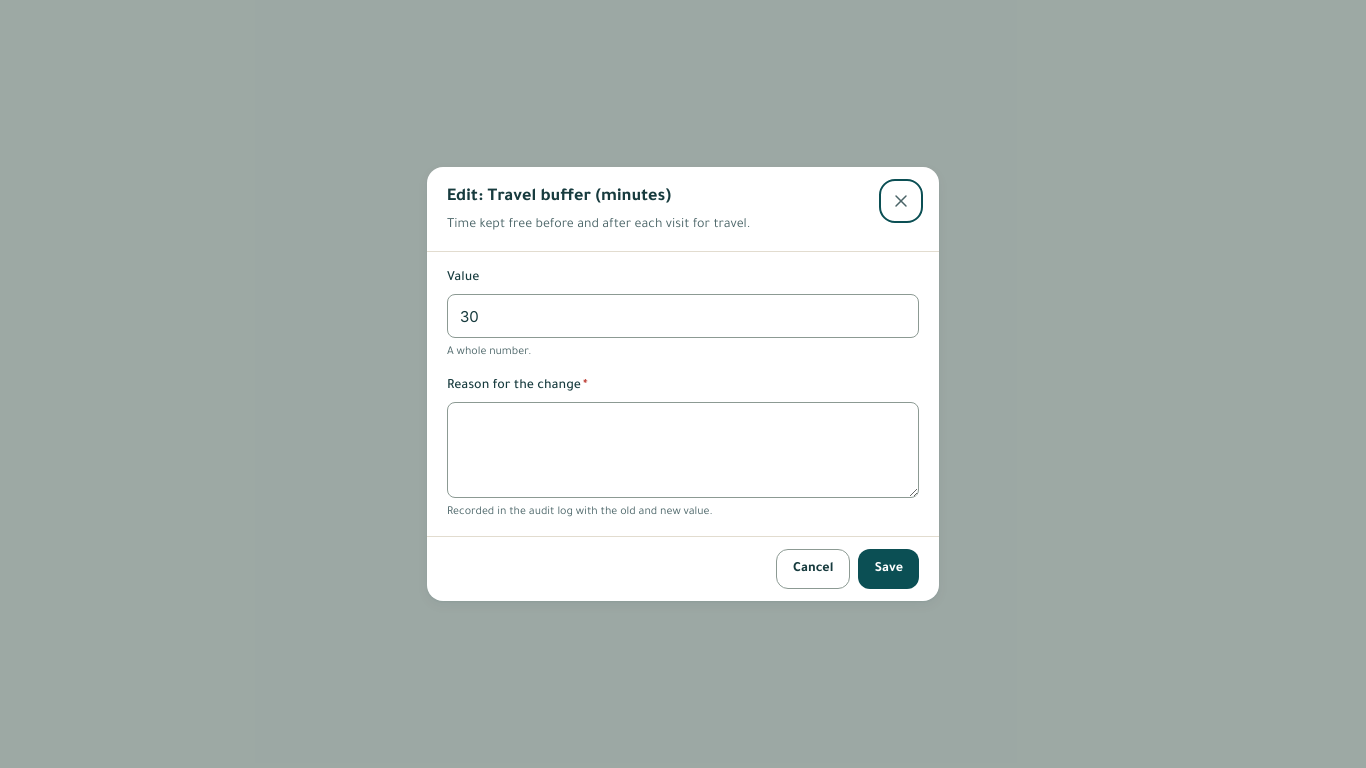
Scenario: weekly hours editor (booking.working_hours) › shows the API's capacity shortfall without a force path
This screenshot has width=1366, height=768.
Replace the text in the field labelled "Value" with "60" at (683, 316), box [447,294,919,338]
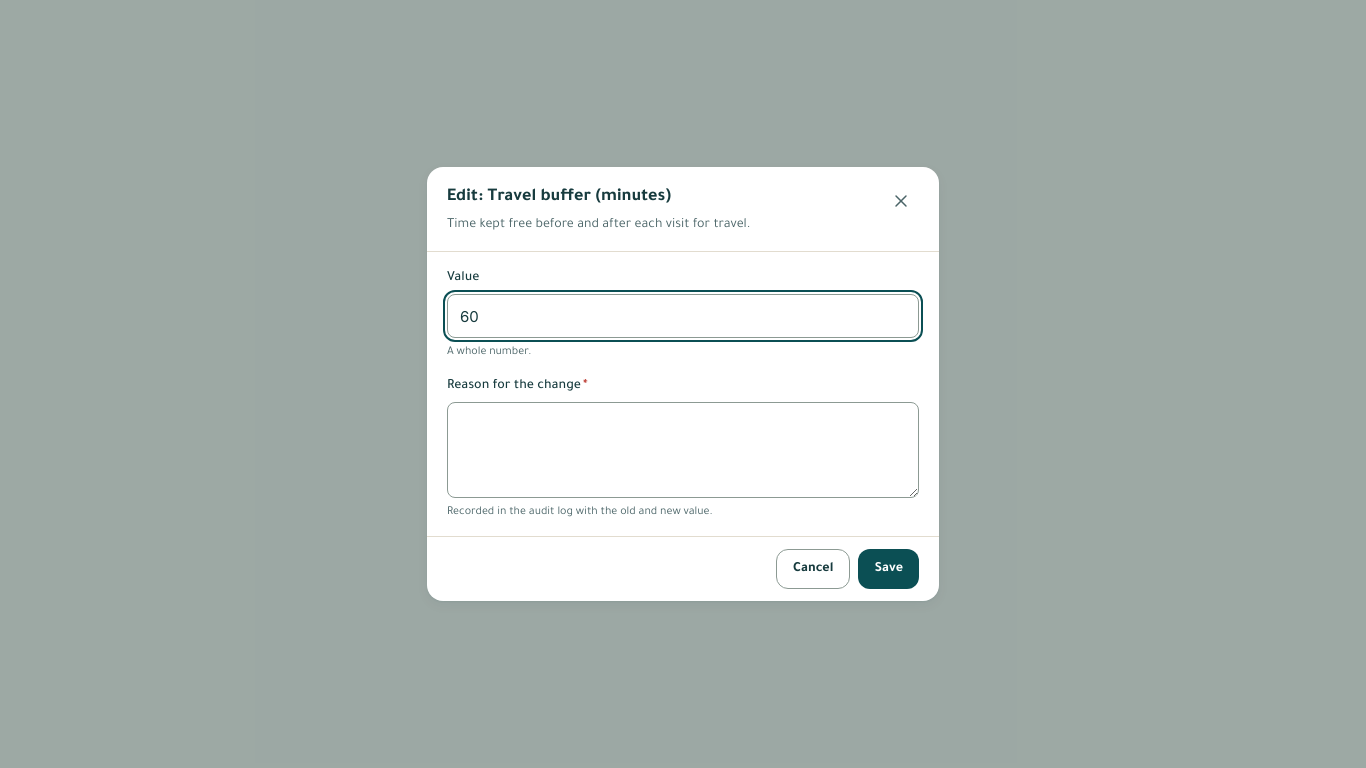
Type "Longer trips" into the text box labelled "Reason for the change*".
click(683, 450); type("Longer trips")  # box [447,402,919,498]
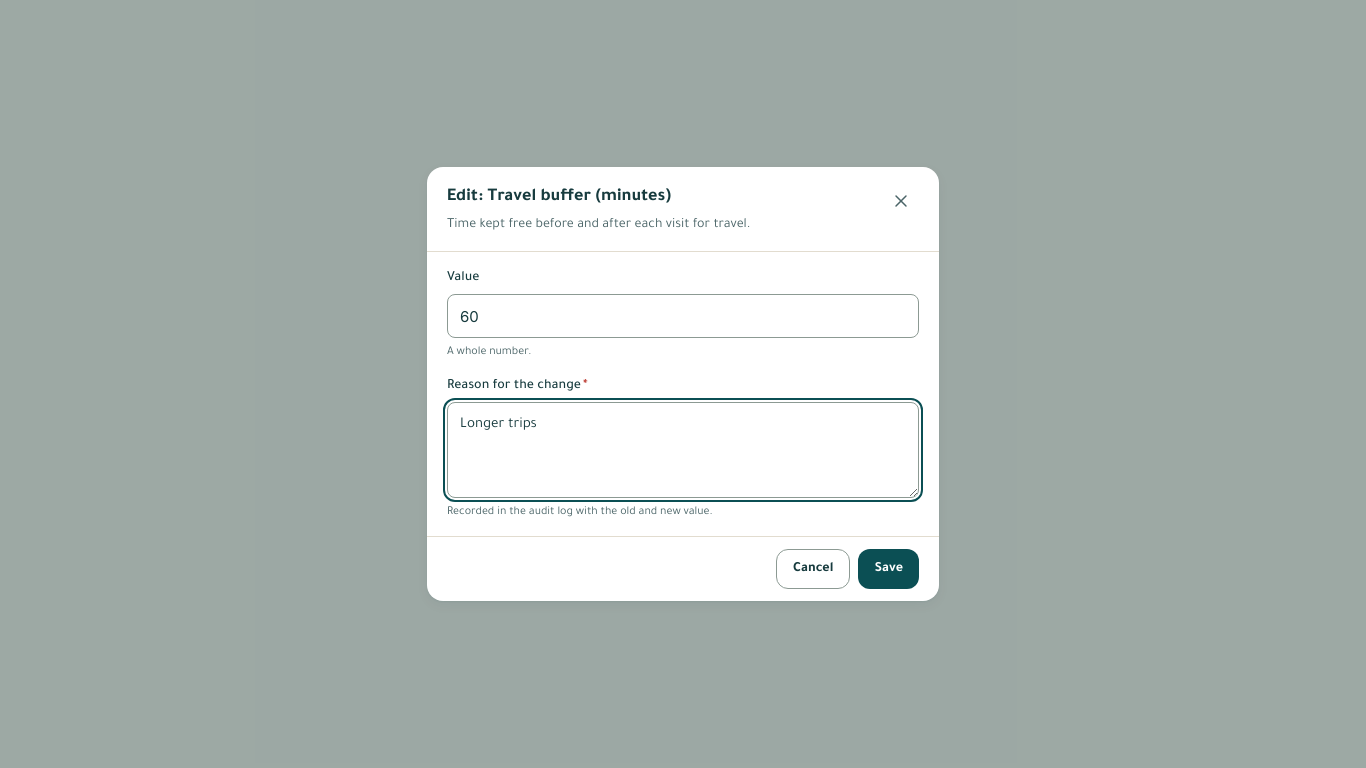
Click the button "Save".
click(889, 569)  # box [858,549,919,589]
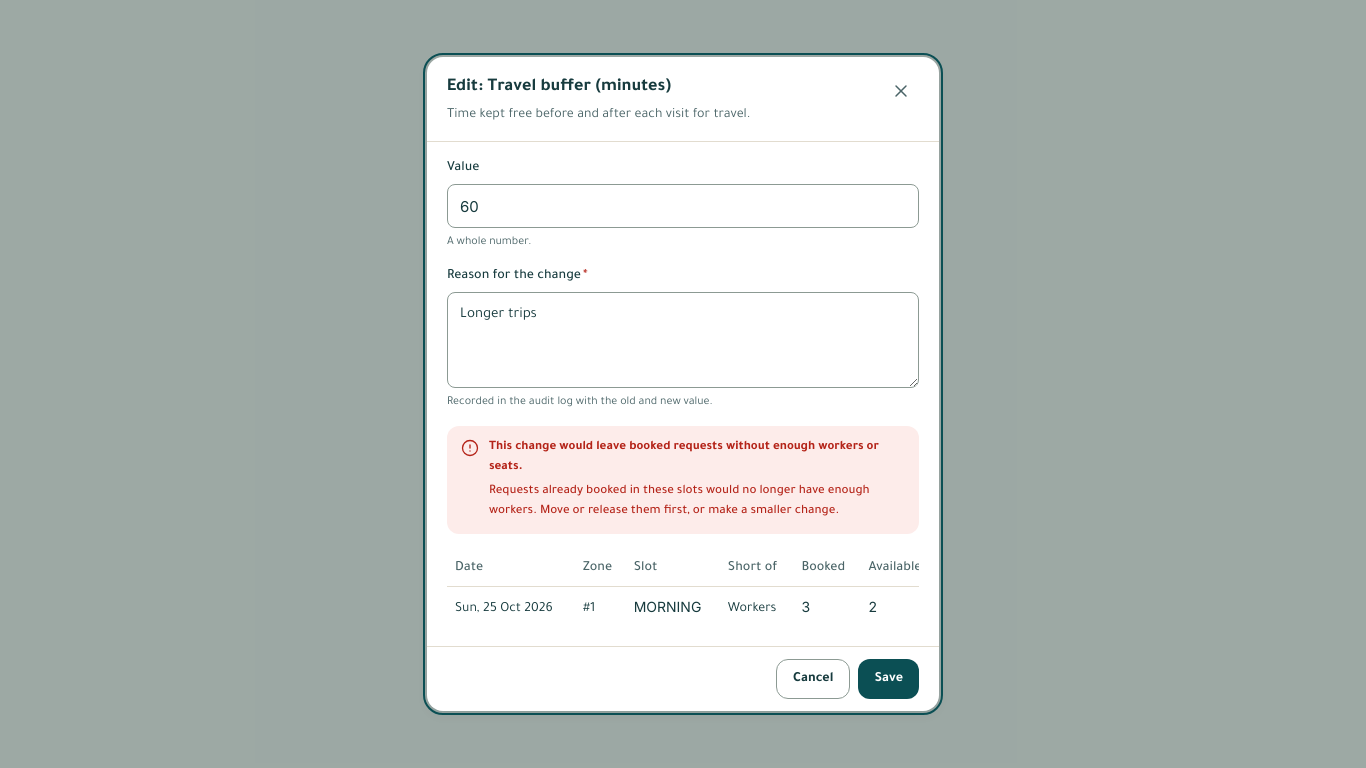
expect the text "This change would leave booked requests without enough workers or seats." is shown: met, box [489,438,905,478]
expect the table named "Slots that would be short" is shown: met, box [447,550,919,630]
